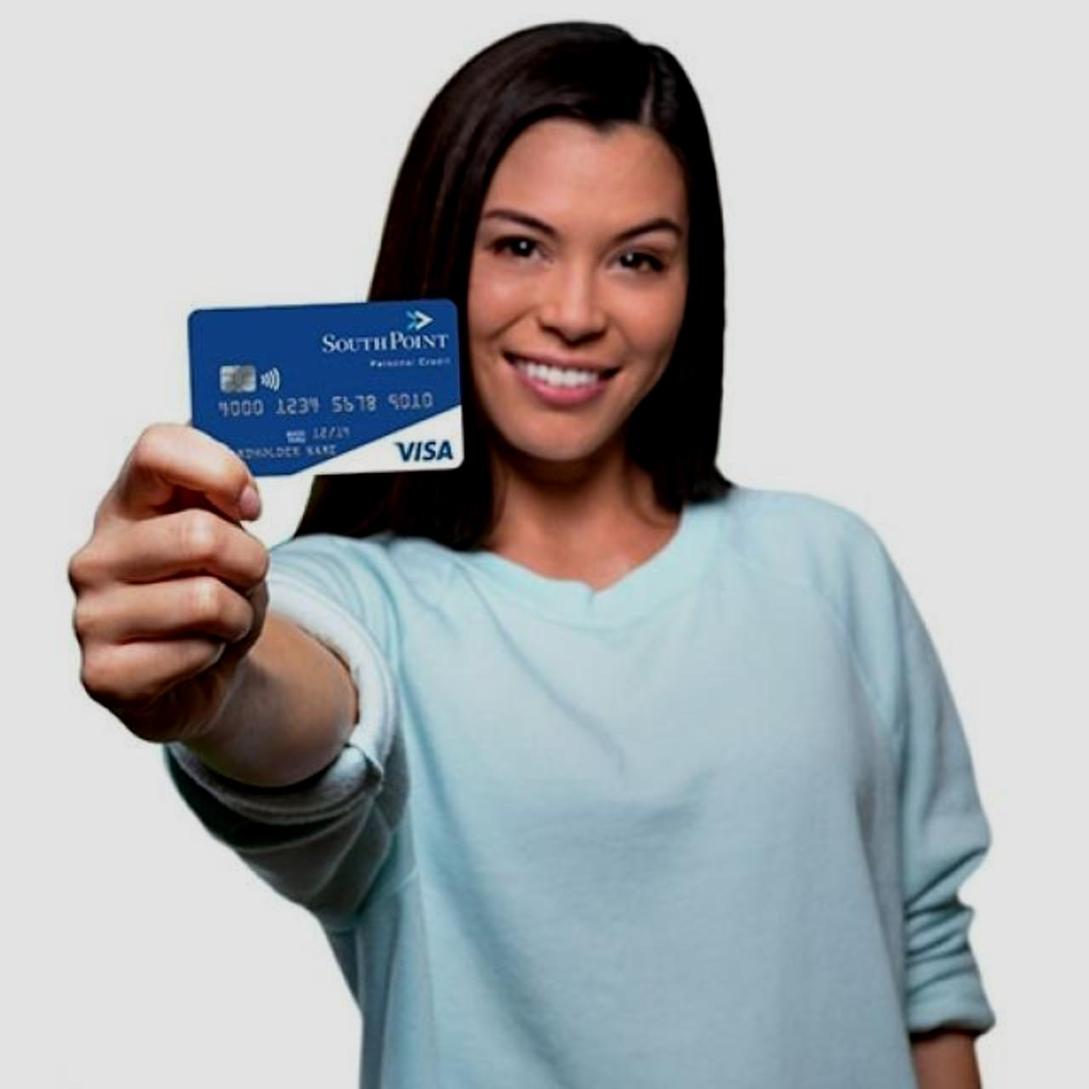credit_card: (186, 298, 464, 477)
